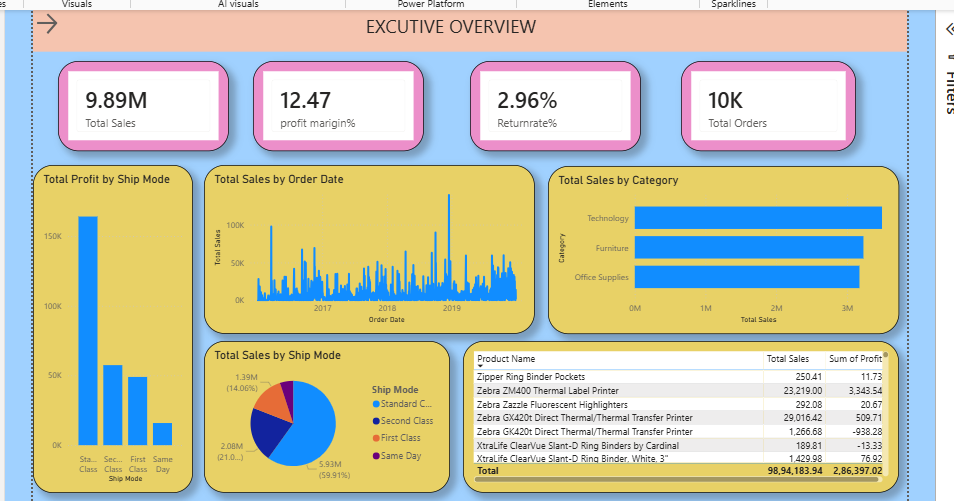

This screenshot's page, from the dashboard's own definition file:
{"tool":"powerbi","page":{"name":"Excutive overview","canvas":[1280,720],"ordinal":0},"visuals":[{"type":"textbox","box":[0,0,1280.5,61.5],"z":0},{"type":"cardVisual","fields":{"Data":["Orders.Total sales"]},"box":[36.6,74.6,250.2,131.7],"z":1000},{"type":"cardVisual","fields":{"Data":["Orders.profit marigin%"]},"box":[322,74.6,250.2,131.7],"z":3000},{"type":"cardVisual","fields":{"Data":["Orders.Returnrate%"]},"box":[639.5,74.6,250.2,131.7],"z":4000},{"type":"lineChart","fields":{"Y":["Orders.Total sales"],"Category":["Orders.Order Date.Variation.Date Hierarchy.Year"]},"box":[250.2,226.8,484.4,247.3],"z":5000},{"type":"barChart","fields":{"Y":["Orders.Total sales"],"Category":["Orders.Category"]},"box":[753.7,228.3,513.7,245.9],"z":6000},{"type":"pieChart","fields":{"Y":["Orders.Total sales"],"Category":["Orders.Ship Mode"]},"box":[250.2,484.4,360,222.4],"z":7000},{"type":"columnChart","fields":{"Y":["Orders.Total Profit"],"Category":["Orders.Ship Mode"]},"box":[0,226.8,234.1,480],"z":8000},{"type":"tableEx","fields":{"Values":["Orders.Product Name","Orders.Total sales","Sum(Orders.Profit)"]},"box":[629.3,484.4,638,222.4],"z":9000},{"type":"cardVisual","fields":{"Data":["Orders.Total Orders"]},"box":[948.3,74.6,256.1,131.7],"z":12000},{"type":"actionButton","box":[0,0,100,40],"z":12001}]}

Visuals, with their boxes in screenshot pixels (x1, y1, x2, y2):
textbox: [left=30, top=5, right=910, bottom=47]
cardVisual - Orders.Total sales: [left=55, top=56, right=227, bottom=147]
cardVisual - Orders.profit marigin%: [left=251, top=56, right=423, bottom=147]
cardVisual - Orders.Returnrate%: [left=469, top=56, right=641, bottom=147]
lineChart - Orders.Total sales x Orders.Order Date.Variation.Date Hierarchy.Year: [left=202, top=161, right=535, bottom=331]
barChart - Orders.Total sales x Orders.Category: [left=548, top=162, right=901, bottom=331]
pieChart - Orders.Total sales x Orders.Ship Mode: [left=202, top=338, right=449, bottom=491]
columnChart - Orders.Total Profit x Orders.Ship Mode: [left=30, top=161, right=191, bottom=491]
tableEx - Orders.Product Name x Orders.Total sales: [left=462, top=338, right=901, bottom=491]
cardVisual - Orders.Total Orders: [left=682, top=56, right=858, bottom=147]
actionButton: [left=30, top=5, right=99, bottom=32]
